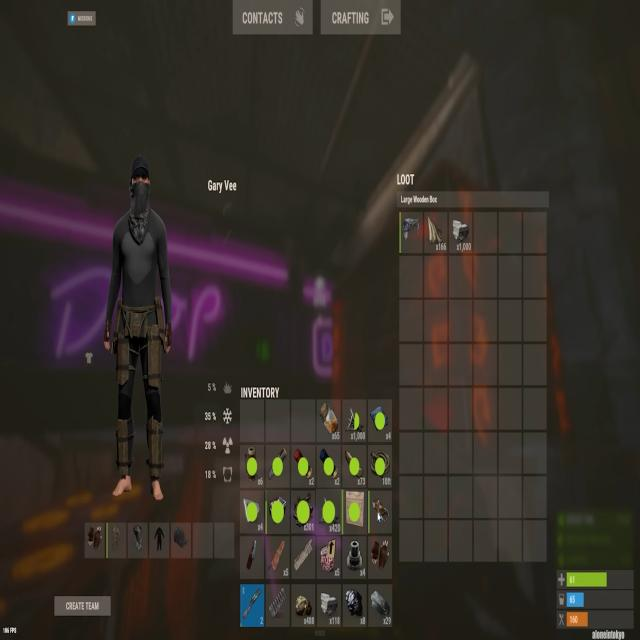Player: (100, 151, 177, 504)
